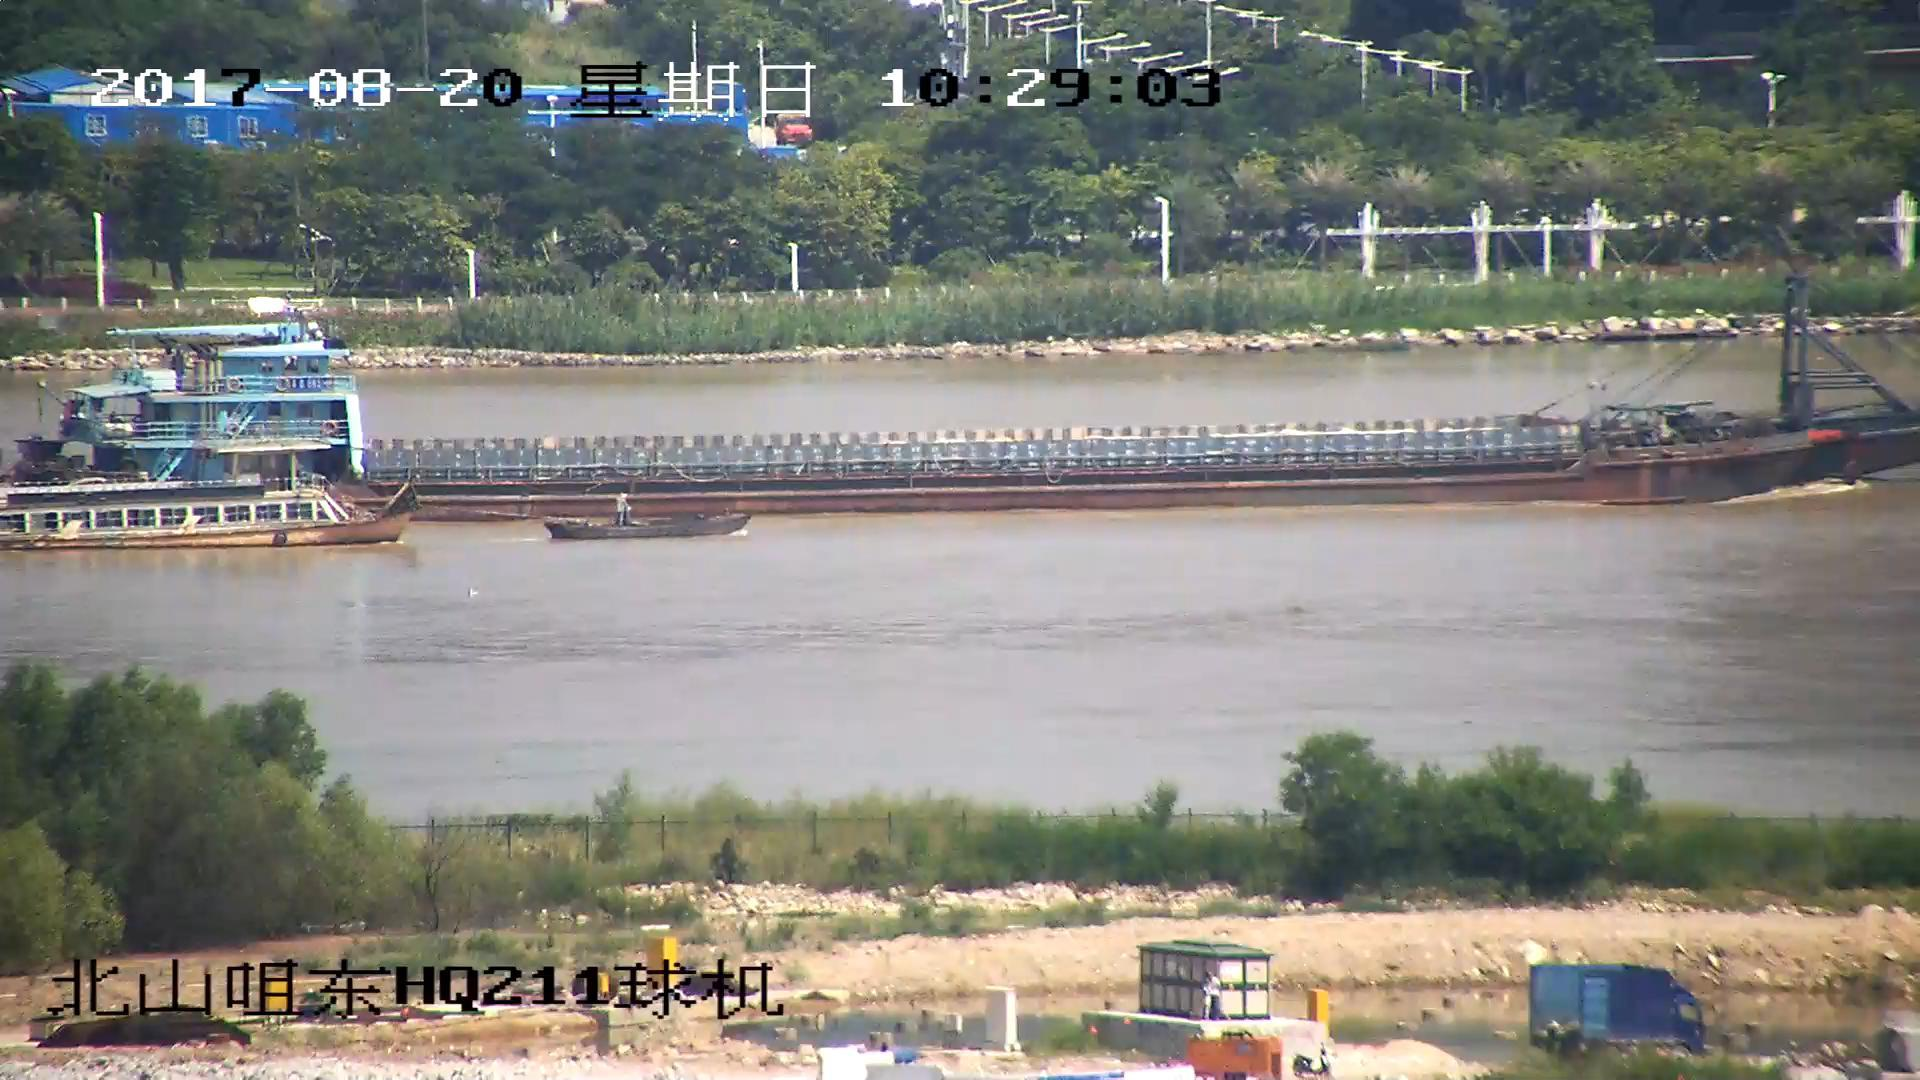Ship: (26, 284, 1920, 524), (3, 443, 407, 556), (545, 495, 752, 541)
